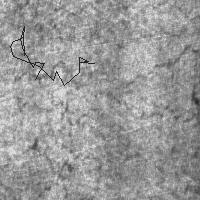crazing: (14, 42, 200, 126), (10, 26, 94, 85), (1, 136, 74, 199)
